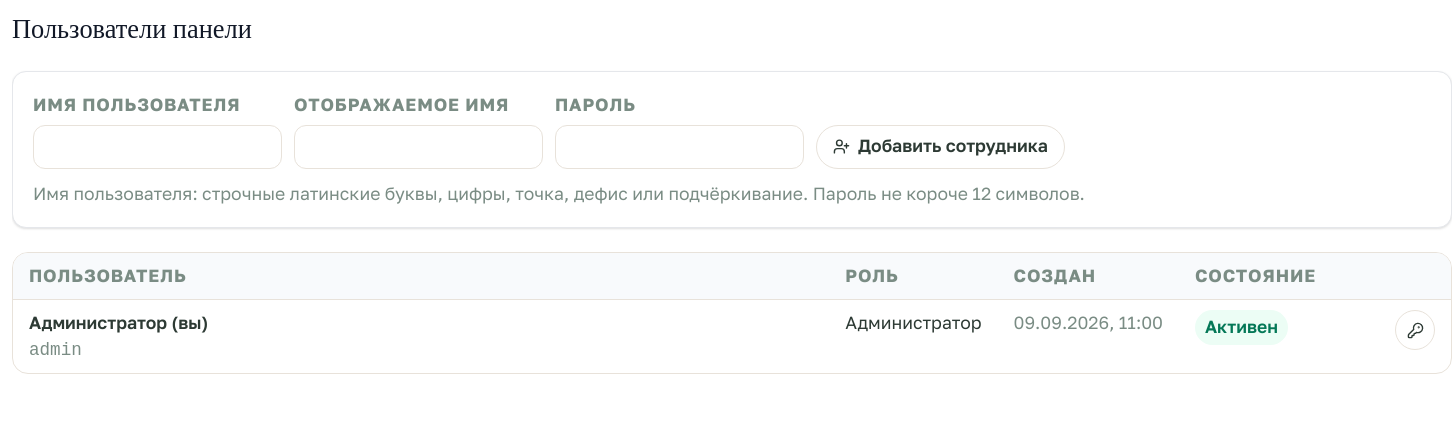
it: AdminUsers › shows the server error for a taken login
Expected: the text "Администратор (вы)" is shown, x1=29 y1=312 x2=208 y2=333
In the field labelled "Имя пользователя": (158, 147) x1=33 y1=125 x2=282 y2=169, type "admin"
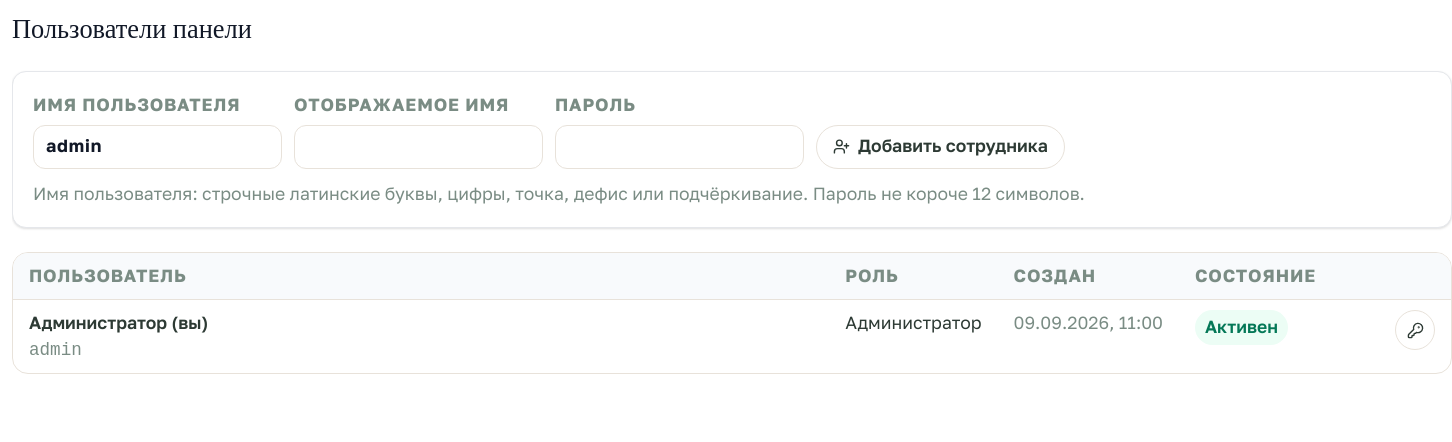
In the field labelled "Отображаемое имя": (418, 147) x1=294 y1=125 x2=543 y2=169, type "Дубль"
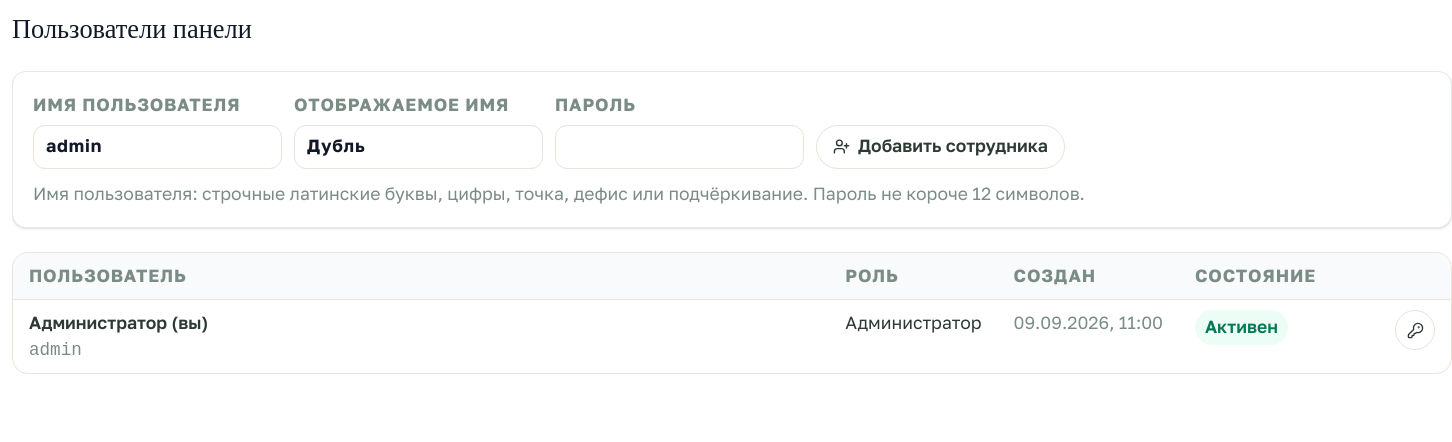
In the password field labelled "Пароль": (680, 147) x1=555 y1=125 x2=804 y2=169, type "пароль-дубля-Ω-2026"
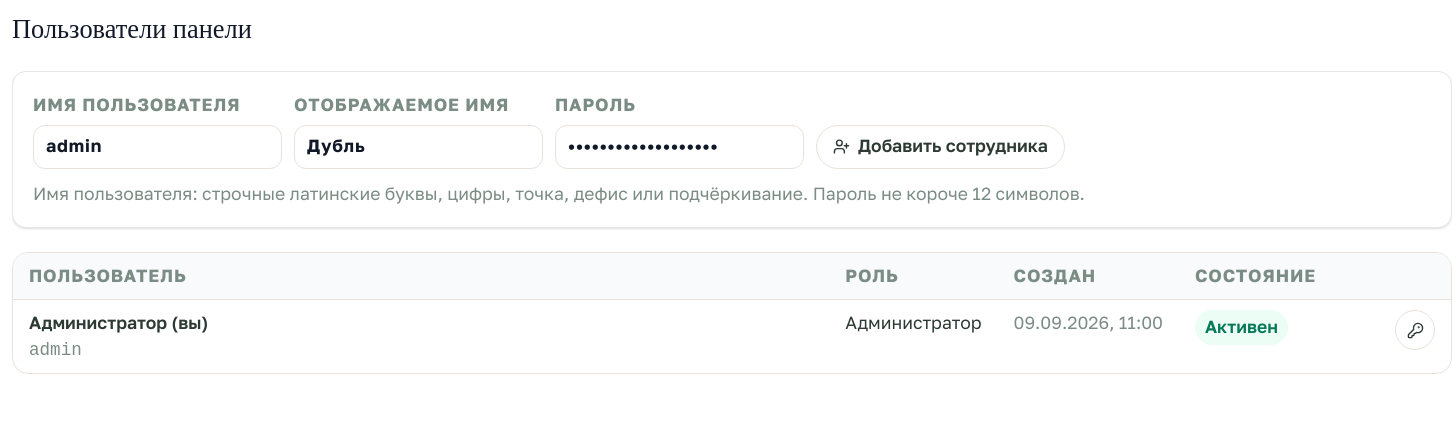
Click the button "Добавить сотрудника": (940, 147) x1=816 y1=125 x2=1065 y2=169
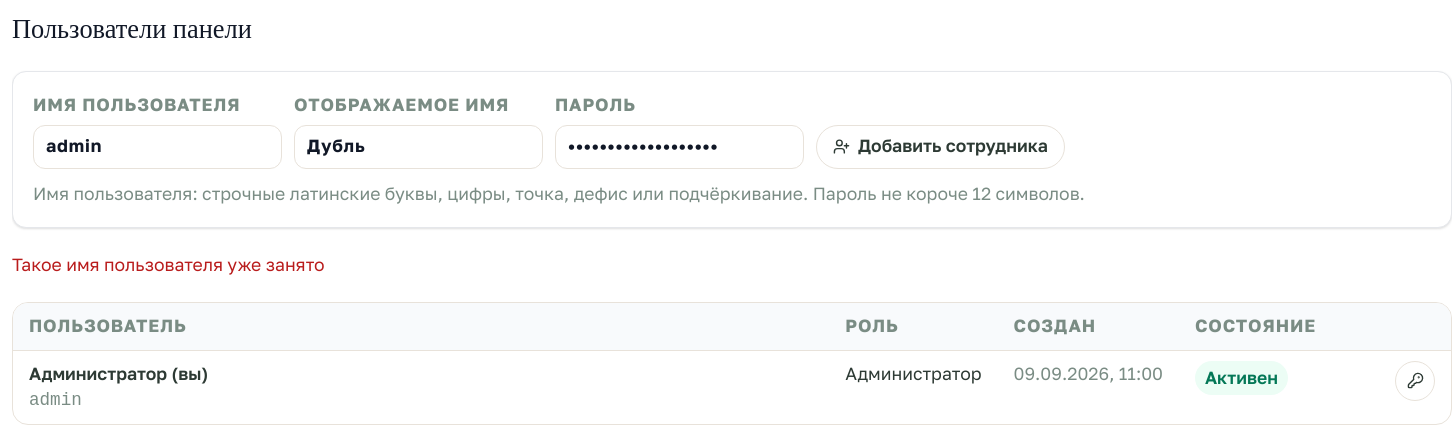
Now the message reads "Такое имя пользователя уже занято", box x1=12 y1=254 x2=325 y2=275
